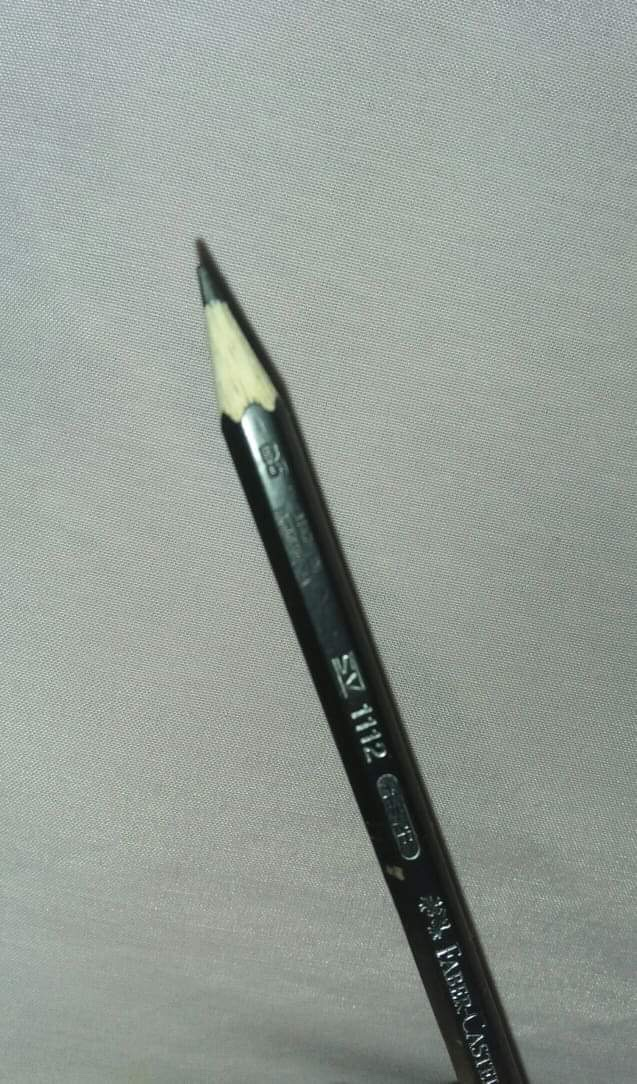pen_tip: (157, 225, 323, 451)
